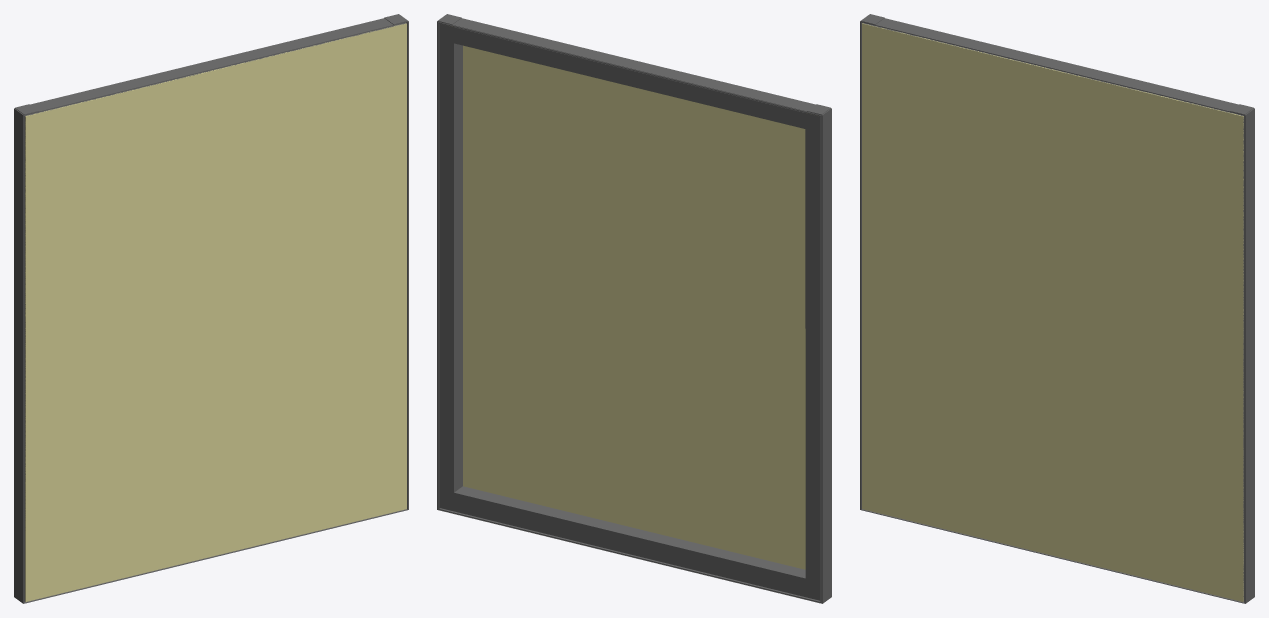
Rendered from Header Full Panel.glb.
3 renders of one model, left to right at view 1: azimuth 30°, elevation 25°; view 2: azimuth 150°, elevation 25°; view 3: azimuth 330°, elevation 25°, orthographic.
Visible parts, largest first — view 1: Closet.002; view 2: Closet.002; view 3: Closet.002.
Boxes of the visible parts, x1=… form: Closet.002: x1=14, y1=14, x2=408, y2=603; Closet.002: x1=437, y1=14, x2=831, y2=603; Closet.002: x1=860, y1=14, x2=1254, y2=603.
Bounding box in the file's own units: 0.969 × 1.18 × 0.0413.
